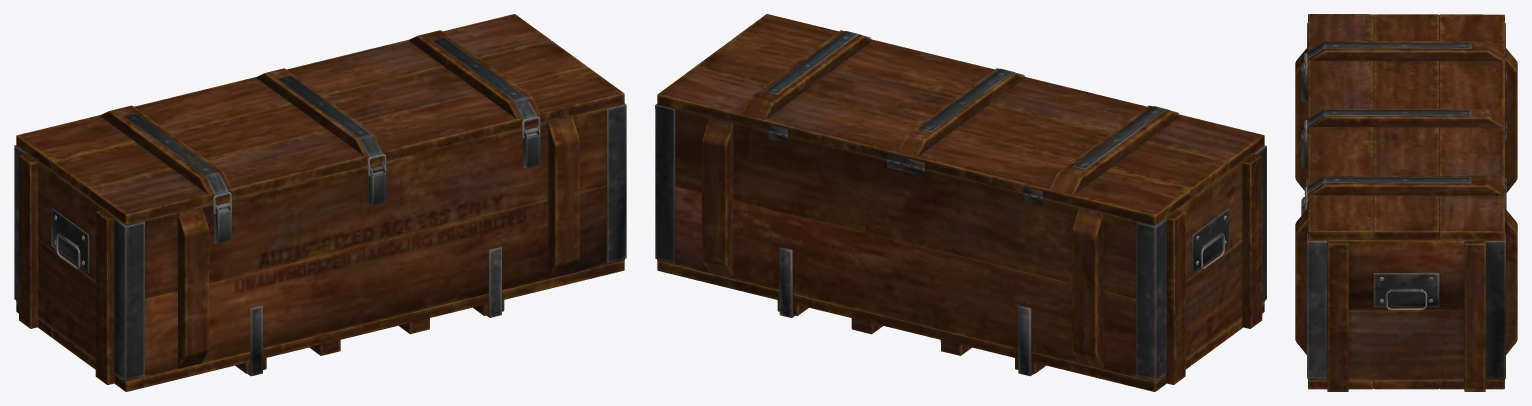
The model's file is wooden_military_crate.glb.
3 views of the same model, side by side, from view 1: azimuth 30°, elevation 25°; view 2: azimuth 150°, elevation 25°; view 3: azimuth 270°, elevation 25° (orthographic). The views are drawn at different scales.
Parts seen in each view (by area): view 1: wooden_military_crate; view 2: wooden_military_crate; view 3: wooden_military_crate.
Boxes of the visible parts, x1,y1,x2,y2 form: wooden_military_crate: [14, 14, 626, 391]; wooden_military_crate: [655, 14, 1266, 391]; wooden_military_crate: [1295, 14, 1517, 391].
Bounding box in the file's own units: 1.24 × 0.4648 × 0.5198.
1 material, 1 textured.
